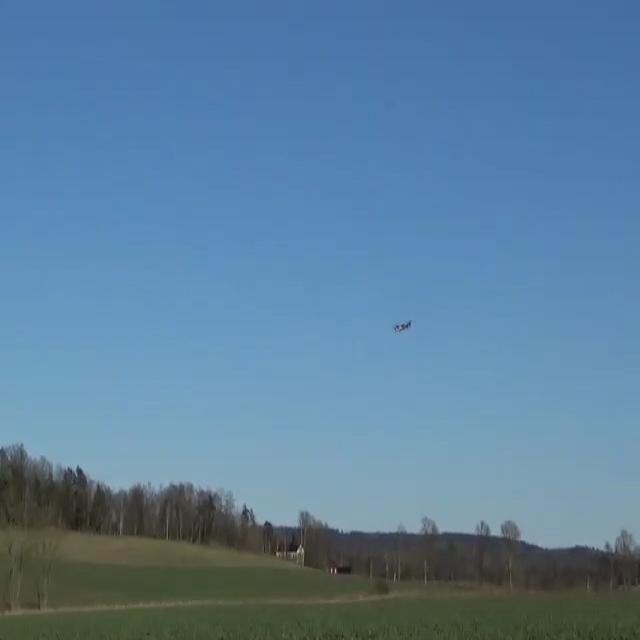drone: (394, 321, 412, 335)
